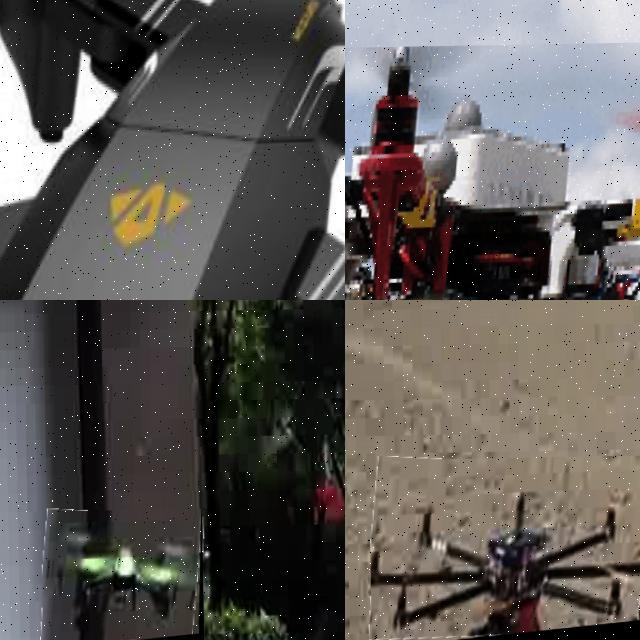drone: (0, 0, 345, 300), (345, 41, 640, 300), (368, 455, 640, 640), (40, 508, 204, 640)
